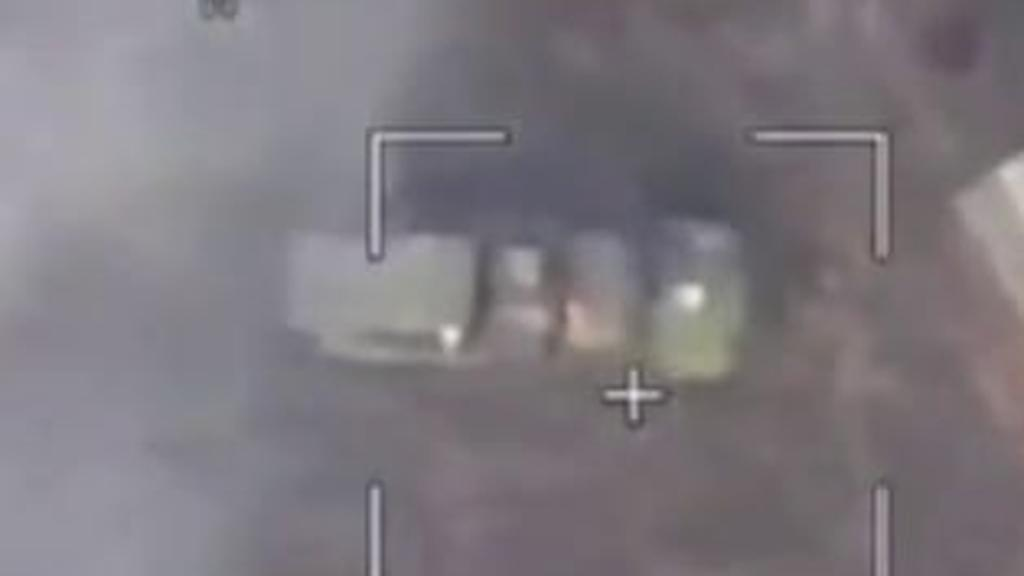MLRS: (270, 205, 748, 384)
